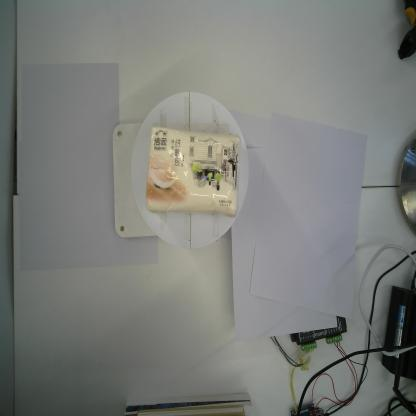Tissue: (143, 123, 240, 218)
